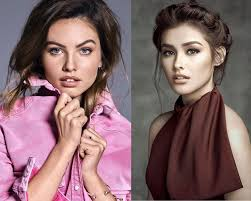no_mask: (154, 5, 229, 98), (36, 7, 108, 100)
